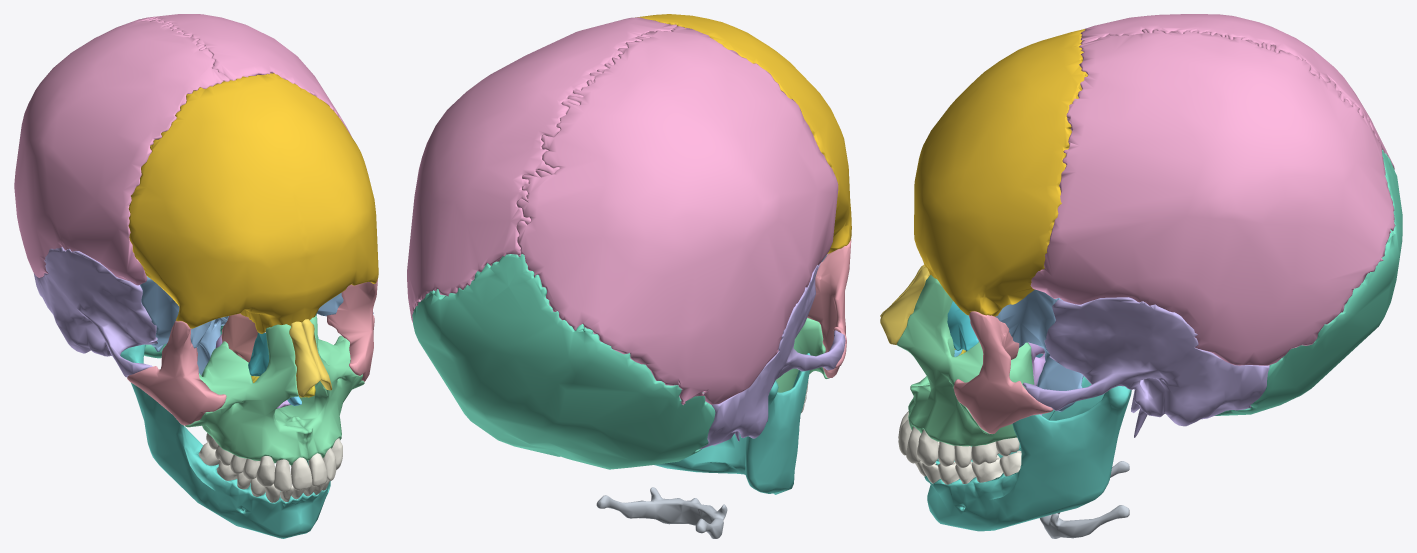
The model's file is skull.glb.
3 renders of one model, left to right at view 1: azimuth 30°, elevation 25°; view 2: azimuth 150°, elevation 25°; view 3: azimuth 270°, elevation 25°, orthographic. The views are drawn at different scales.
Parts seen in each view (by area): view 1: Frontal bone.001, Parietal bone, Maxilla, Temporal bone, Mandible.001, Parietal bone.001, Zygomatic bone, Maxilla.001, Sphenoid bone.001, Zygomatic bone.001, Nasal bone, Ethmoid bone.001 (+6 smaller); view 2: Parietal bone, Occipital bone.001, Parietal bone.001, Frontal bone.001, Mandible.001, Temporal bone, Zygomatic bone, Hyoid bone.001, Maxilla; view 3: Parietal bone.001, Frontal bone.001, Temporal bone.001, Mandible.001, Maxilla.001, Occipital bone.001, Parietal bone, Zygomatic bone.001, Sphenoid bone.001, Hyoid bone.001, Nasal bone.001, Lacrimal bone.001.
Boxes of the visible parts, x1,y1,x2,y2 form: Frontal bone.001: [128, 73, 378, 333]; Parietal bone: [14, 17, 229, 285]; Maxilla: [185, 324, 308, 465]; Temporal bone: [33, 247, 157, 377]; Mandible.001: [120, 313, 330, 538]; Parietal bone.001: [141, 14, 352, 138]; Zygomatic bone: [127, 321, 226, 425]; Maxilla.001: [278, 315, 364, 460]; Sphenoid bone.001: [140, 277, 343, 375]; Zygomatic bone.001: [326, 279, 377, 381]; Nasal bone: [289, 321, 320, 397]; Ethmoid bone.001: [221, 313, 265, 362]; Parietal bone: [516, 26, 838, 404]; Occipital bone.001: [412, 254, 715, 469]; Parietal bone.001: [407, 17, 676, 322]; Frontal bone.001: [635, 14, 851, 253]; Mandible.001: [654, 353, 810, 494]; Temporal bone: [699, 263, 845, 449]; Zygomatic bone: [807, 239, 851, 378]; Hyoid bone.001: [596, 487, 727, 538]; Maxilla: [776, 318, 829, 392]; Parietal bone.001: [1030, 29, 1395, 365]; Frontal bone.001: [914, 29, 1087, 316]; Temporal bone.001: [1022, 297, 1269, 437]; Mandible.001: [924, 376, 1131, 531]; Maxilla.001: [896, 275, 1034, 446]; Occipital bone.001: [1215, 149, 1402, 415]; Parietal bone: [1071, 14, 1394, 169]; Zygomatic bone.001: [953, 311, 1053, 433]; Sphenoid bone.001: [995, 289, 1083, 411]; Hyoid bone.001: [1039, 461, 1129, 538]; Nasal bone.001: [880, 267, 929, 344]; Lacrimal bone.001: [947, 301, 978, 351].
Size of the model in its own units: 1.81 by 2.6 by 2.47.
